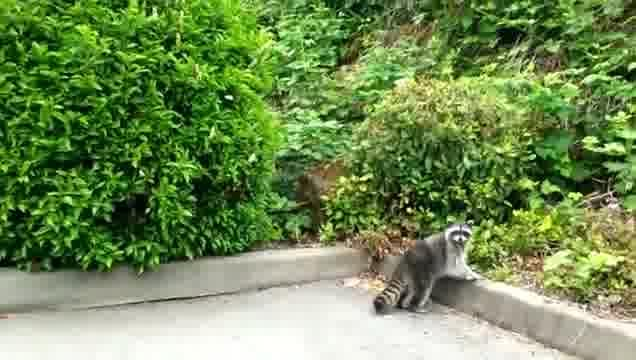raccoon: (371, 224, 487, 315)
